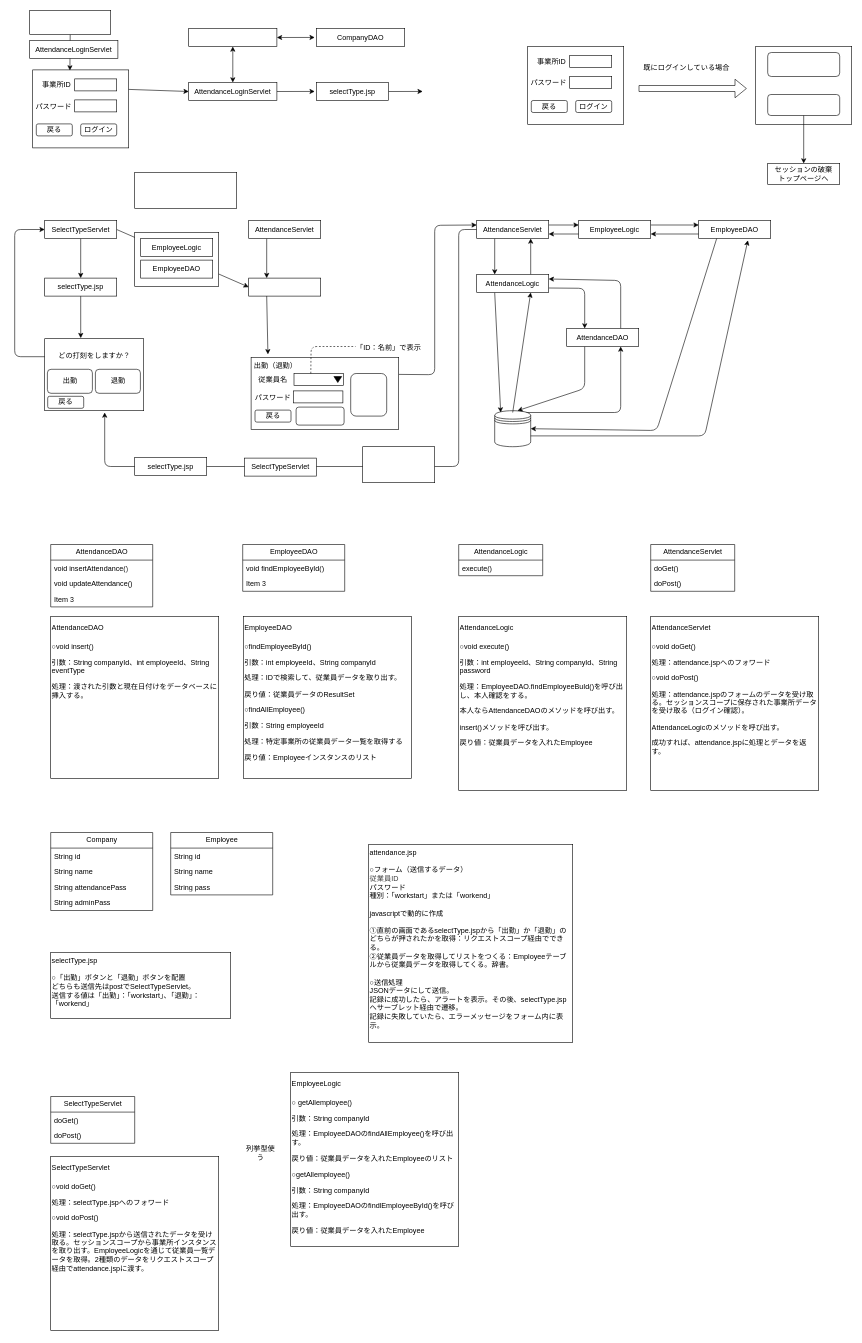
Image size: 862x1343. Some labels were removed from this diagram. The centre of each missing label's shape, as x and y in pixels:
"attendance.jsp" belongs at point (284, 287).
"CompanyLogic" belongs at point (232, 37).
"index.jsp" belongs at point (70, 22).
"アラート 記録しました。 時間" belongs at point (398, 464).
"セッションスコープ Companyインスタンス" belongs at point (185, 190).
"パスワード用キーボード" belongs at point (368, 394).
"ログアウト" belongs at point (803, 105).
"勤怠システムへ" belongs at point (803, 64).
"打刻する" belongs at point (320, 415).
